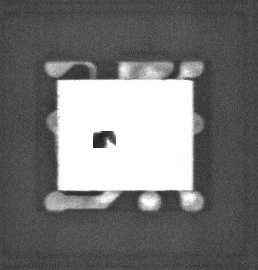DIE_INK: (91, 127, 117, 149)
